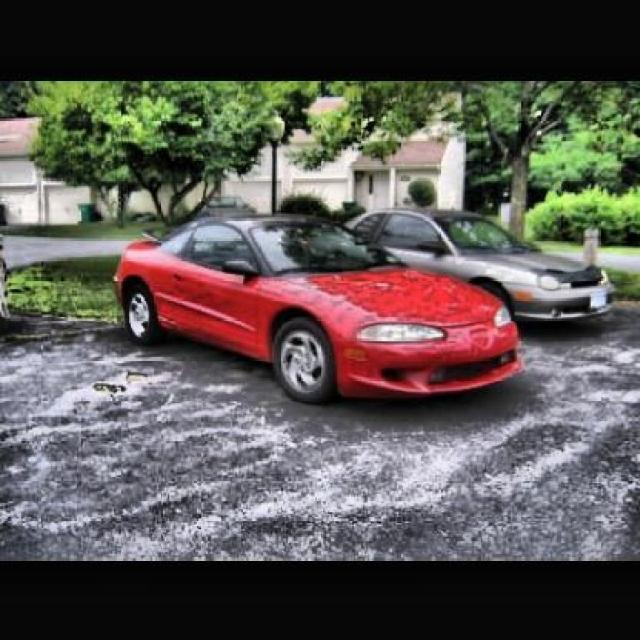red: (127, 205, 571, 414)
